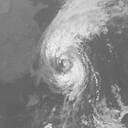cyclone: (40, 42, 88, 94)
